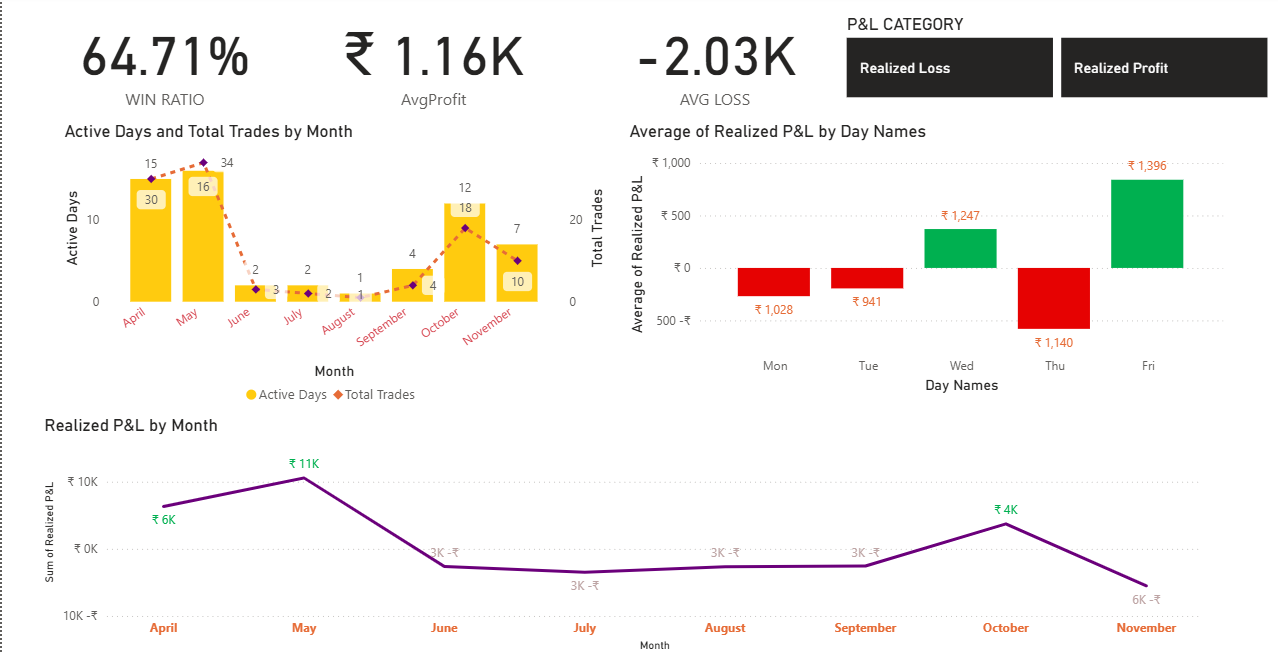

What the dashboard file says about the page in this screenshot:
{"tool":"powerbi","page":{"name":"F&O Report","canvas":[1280,720],"ordinal":0},"visuals":[{"type":"card","fields":{"Values":["F AND O SUMMARY.AvgProfit"]},"box":[289.5,9.6,279.9,109.8],"z":0},{"type":"card","fields":{"Values":["F AND O SUMMARY.AVG LOSS"]},"box":[569.5,9.6,279.9,109.8],"z":1000},{"type":"card","fields":{"Values":["F AND O SUMMARY.WIN RATIO"]},"box":[22,9.6,279.9,109.8],"z":2000},{"type":"lineClusteredColumnComboChart","fields":{"Category":["F AND O SUMMARY.Buy Date.Variation.Date Hierarchy.Year","F AND O SUMMARY.Buy Date.Variation.Date Hierarchy.Quarter","F AND O SUMMARY.Buy Date.Variation.Date Hierarchy.Month","F AND O SUMMARY.Buy Date.Variation.Date Hierarchy.Day"],"Y2":["F AND O SUMMARY.Trades taken"],"Y":["F AND O SUMMARY.Active Days"]},"box":[57.6,126.2,547.5,290.9],"z":3000},{"type":"advancedSlicerVisual","fields":{"Values":["F AND O SUMMARY.P&L CATEGORY"]},"box":[835.7,19.2,428.1,89.2],"z":4000},{"type":"columnChart","fields":{"Category":["F AND O SUMMARY.Day Names"],"Y":["Avg(F AND O SUMMARY.Realized P&L)"]},"box":[618.9,126.2,601,275.8],"z":5000},{"type":"lineChart","title":"Realized P&L by Month","fields":{"Y":["Sum(F AND O SUMMARY.Realized P&L)"],"Category":["F AND O SUMMARY.Buy Date.Variation.Date Hierarchy.Year","F AND O SUMMARY.Buy Date.Variation.Date Hierarchy.Quarter","F AND O SUMMARY.Buy Date.Variation.Date Hierarchy.Month","F AND O SUMMARY.Buy Date.Variation.Date Hierarchy.Day"]},"box":[37.5,417.5,1162.5,240],"z":6000}]}

Visuals, with their boxes on the page's 1280x720 design canvas (x1, y1, x2, y2). These are canvas units, not pixel positions in the 1278x653 screenshot, which may show the page scaled, cropped or inside an application window:
card - F AND O SUMMARY.AvgProfit: select_region(290, 10, 569, 119)
card - F AND O SUMMARY.AVG LOSS: select_region(570, 10, 849, 119)
card - F AND O SUMMARY.WIN RATIO: select_region(22, 10, 302, 119)
lineClusteredColumnComboChart - F AND O SUMMARY.Buy Date.Variation.Date Hierarchy.Year x F AND O SUMMARY.Buy Date.Variation.Date Hierarchy.Quarter: select_region(58, 126, 605, 417)
advancedSlicerVisual - F AND O SUMMARY.P&L CATEGORY: select_region(836, 19, 1264, 108)
columnChart - F AND O SUMMARY.Day Names x Avg(F AND O SUMMARY.Realized P&L): select_region(619, 126, 1220, 402)
"Realized P&L by Month" lineChart: select_region(38, 418, 1200, 658)
